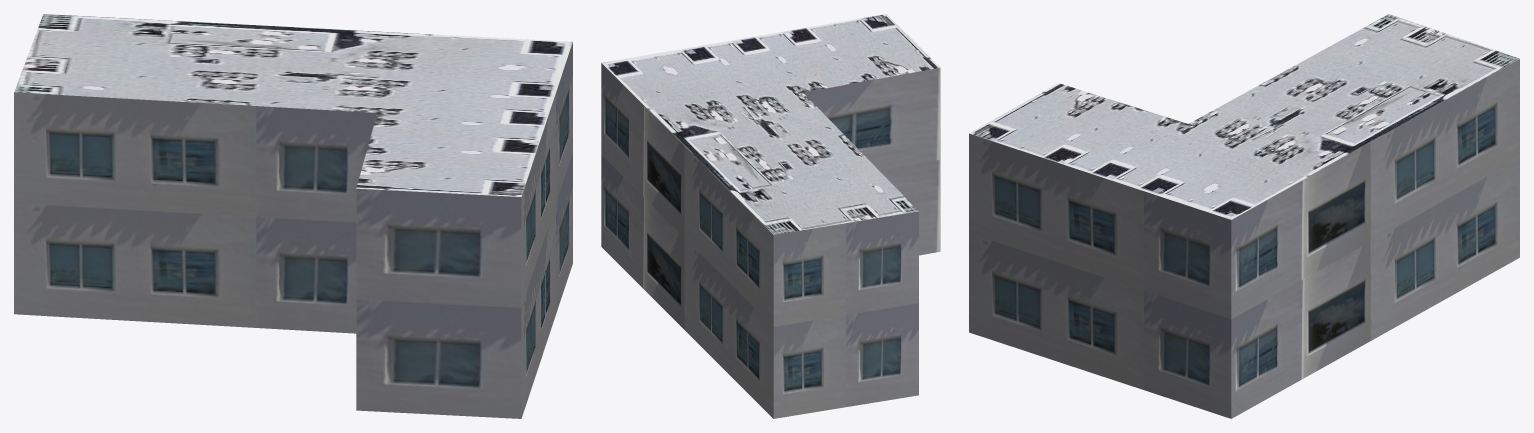
File: ResTex__3203.fbx
The picture shows the model from 3 angles, left to right: view 1: azimuth 30°, elevation 25°; view 2: azimuth 150°, elevation 25°; view 3: azimuth 270°, elevation 25°; orthographic projection. The views are drawn at different scales.
Visible parts, largest first — view 1: CityEngineMaterial_10_m, CityEngineMaterial_8_m; view 2: CityEngineMaterial_10_m, CityEngineMaterial_8_m; view 3: CityEngineMaterial_10_m, CityEngineMaterial_8_m.
Part boxes in pixels (<box>): CityEngineMaterial_10_m: <box>14,42,572,418</box>; CityEngineMaterial_8_m: <box>14,14,572,196</box>; CityEngineMaterial_10_m: <box>601,63,940,418</box>; CityEngineMaterial_8_m: <box>601,14,940,234</box>; CityEngineMaterial_10_m: <box>969,59,1519,418</box>; CityEngineMaterial_8_m: <box>969,14,1519,219</box>.
Size of the model in its own units: 13.32 by 6 by 15.05.
Materials: 2 (2 with a texture image).
